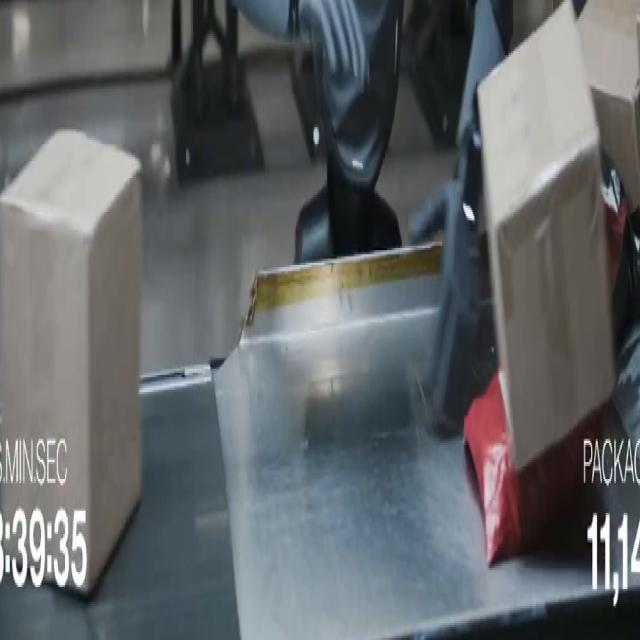package: (0, 132, 141, 593), (478, 3, 614, 470), (464, 373, 606, 565), (464, 373, 605, 565), (578, 0, 639, 209), (512, 0, 556, 48)
